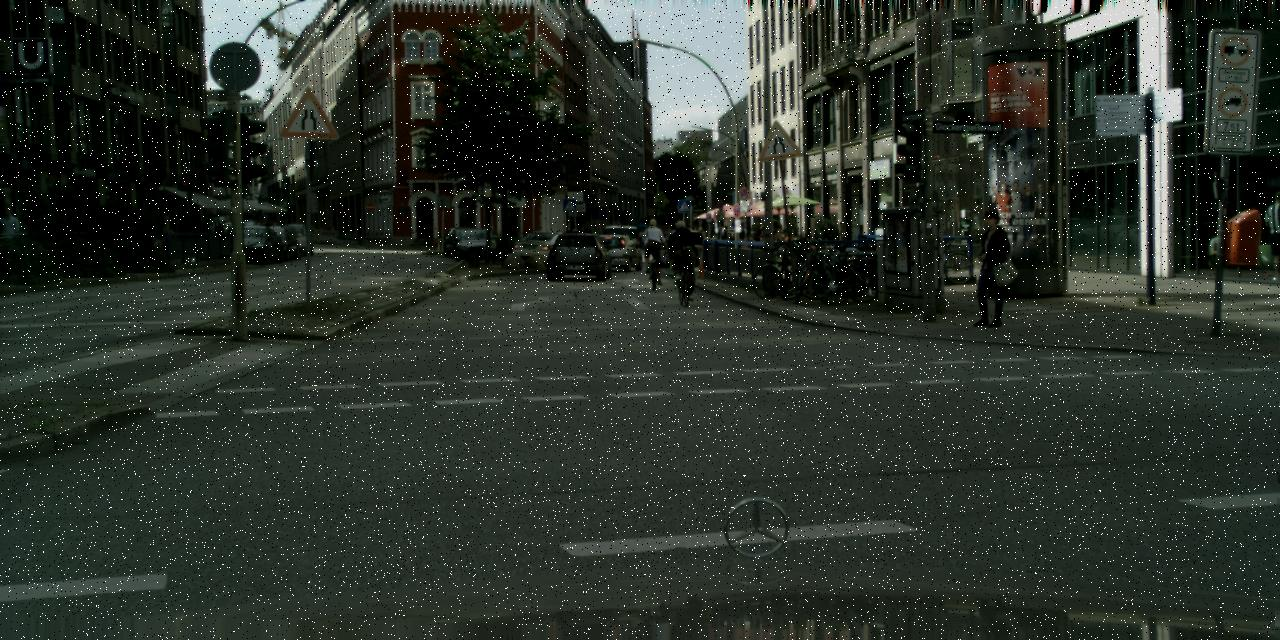ped: (965, 210, 1013, 328), (668, 220, 696, 290), (641, 219, 665, 278), (0, 207, 20, 269), (568, 226, 581, 256), (768, 228, 781, 258), (753, 224, 765, 256), (694, 226, 706, 256), (582, 226, 594, 256), (776, 228, 788, 257), (720, 226, 730, 253), (710, 226, 715, 241)
